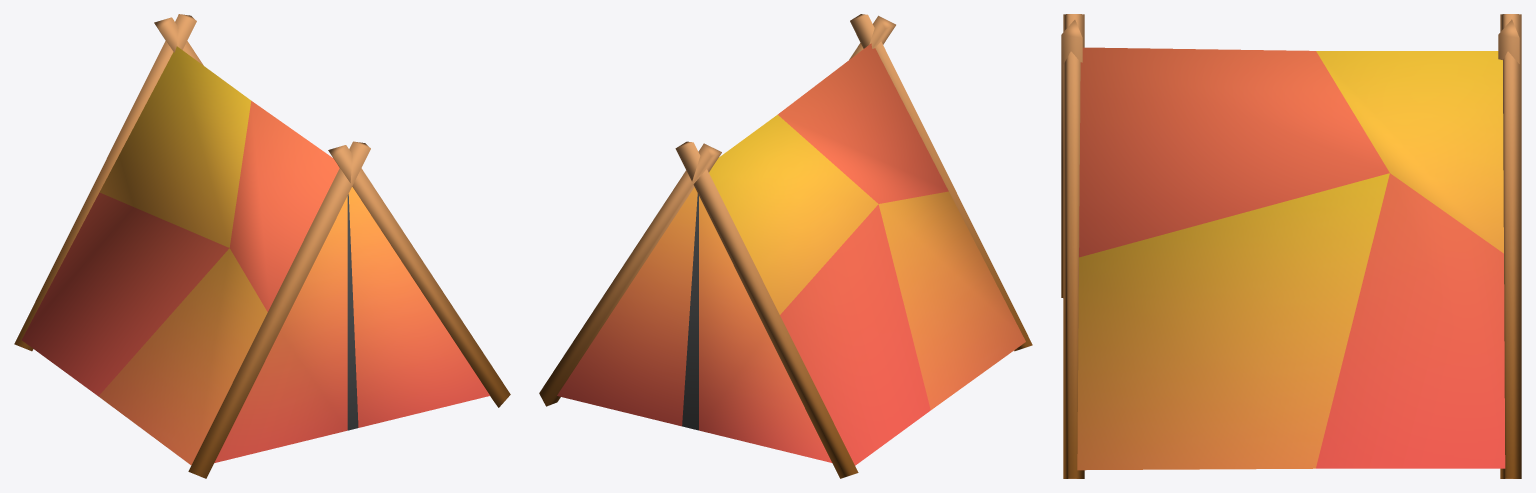
The model's file is Harbor3.fbx.
3 renders of one model, left to right at view 1: azimuth 30°, elevation 25°; view 2: azimuth 150°, elevation 25°; view 3: azimuth 270°, elevation 25°, orthographic. The views are drawn at different scales.
Parts seen in each view (by area): view 1: Cube.001; view 2: Cube.001; view 3: Cube.001.
Part boxes in pixels (<box>): Cube.001: <box>14,14,510,478</box>; Cube.001: <box>539,14,1032,478</box>; Cube.001: <box>1061,14,1521,478</box>.
Bounding box in the file's own units: 73.93 × 73.23 × 65.53.
